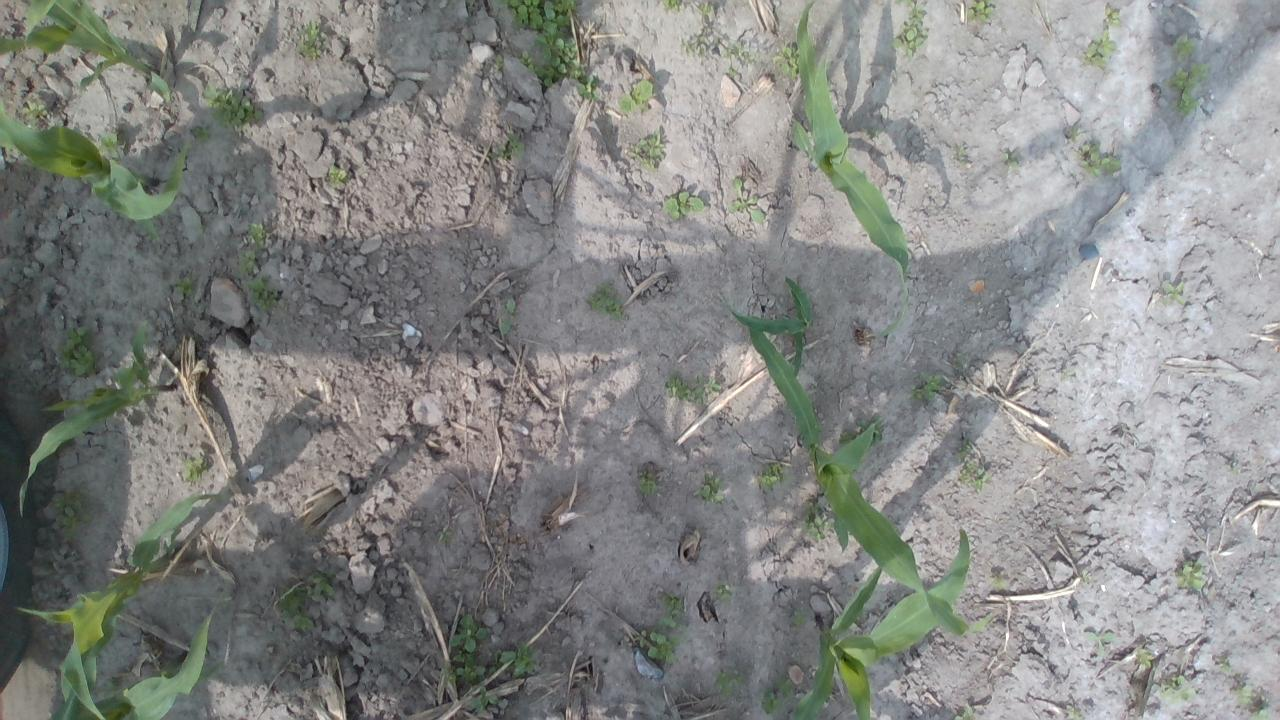Maize: (746, 320, 990, 640), (17, 491, 212, 720), (792, 3, 908, 340), (785, 531, 970, 720), (20, 322, 176, 509), (0, 100, 186, 240), (0, 0, 176, 96), (70, 606, 210, 720), (730, 274, 810, 380)
Weeds: (532, 0, 586, 88), (202, 82, 266, 129), (54, 326, 104, 380), (52, 488, 96, 538), (892, 0, 928, 61), (1168, 63, 1208, 116), (958, 434, 991, 489), (726, 178, 766, 223), (626, 129, 668, 171), (278, 586, 314, 634), (491, 0, 543, 31), (1080, 27, 1117, 70), (450, 614, 491, 652), (586, 280, 624, 320), (1074, 144, 1120, 176), (293, 17, 328, 58), (245, 274, 283, 311), (499, 640, 538, 676), (440, 654, 486, 684), (1158, 674, 1200, 704), (802, 504, 834, 543), (662, 191, 706, 219), (616, 80, 654, 112), (646, 630, 680, 665), (664, 375, 704, 404), (906, 371, 944, 401), (493, 128, 526, 162), (656, 592, 684, 630), (709, 669, 744, 699), (695, 472, 725, 506), (771, 46, 800, 80), (467, 686, 501, 714), (308, 568, 336, 602), (718, 38, 754, 64), (20, 98, 49, 130), (95, 128, 122, 162), (1176, 560, 1204, 591), (966, 0, 994, 30), (1084, 630, 1116, 656), (857, 415, 882, 444), (575, 74, 600, 102), (1170, 34, 1194, 63), (498, 296, 516, 334), (758, 463, 784, 488), (182, 457, 210, 480), (1161, 281, 1185, 305), (636, 470, 658, 496), (328, 166, 350, 192), (760, 692, 784, 714), (173, 274, 195, 297), (237, 248, 259, 271), (774, 673, 794, 698), (680, 36, 705, 56), (1250, 696, 1270, 720), (1104, 3, 1122, 27), (517, 49, 535, 72), (1232, 684, 1252, 704), (249, 221, 265, 245), (1134, 647, 1153, 667), (999, 151, 1019, 169), (104, 678, 121, 698), (192, 126, 210, 144), (952, 705, 972, 720), (1064, 702, 1080, 720), (791, 610, 809, 626), (988, 575, 1009, 588), (838, 431, 854, 448), (704, 378, 722, 393), (1218, 655, 1232, 674), (718, 582, 732, 601), (697, 3, 715, 16), (862, 127, 879, 140), (662, 0, 682, 11), (1070, 126, 1081, 144), (634, 633, 646, 649), (1081, 570, 1092, 584), (496, 53, 504, 71), (1060, 368, 1072, 380), (725, 66, 737, 76), (958, 146, 968, 156)
